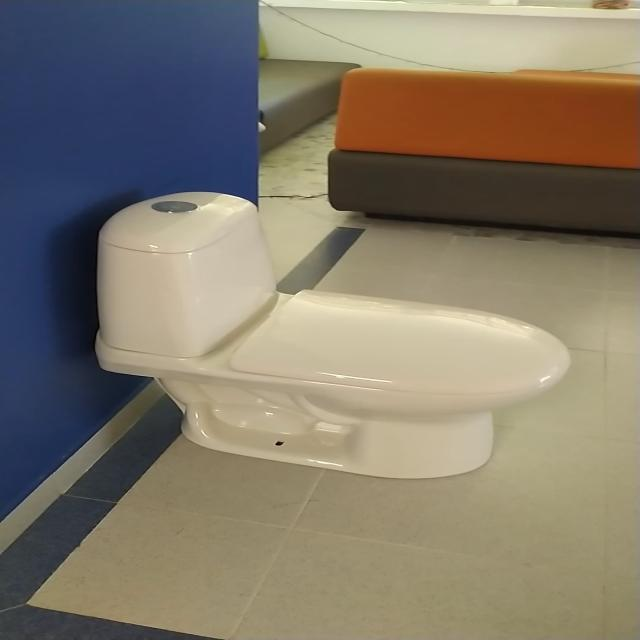toilet: (89, 182, 584, 482)
